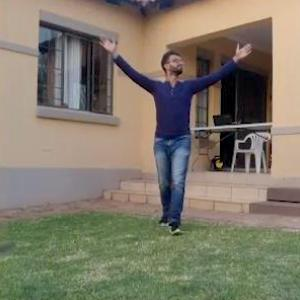takeoff: (80, 21, 267, 225)
